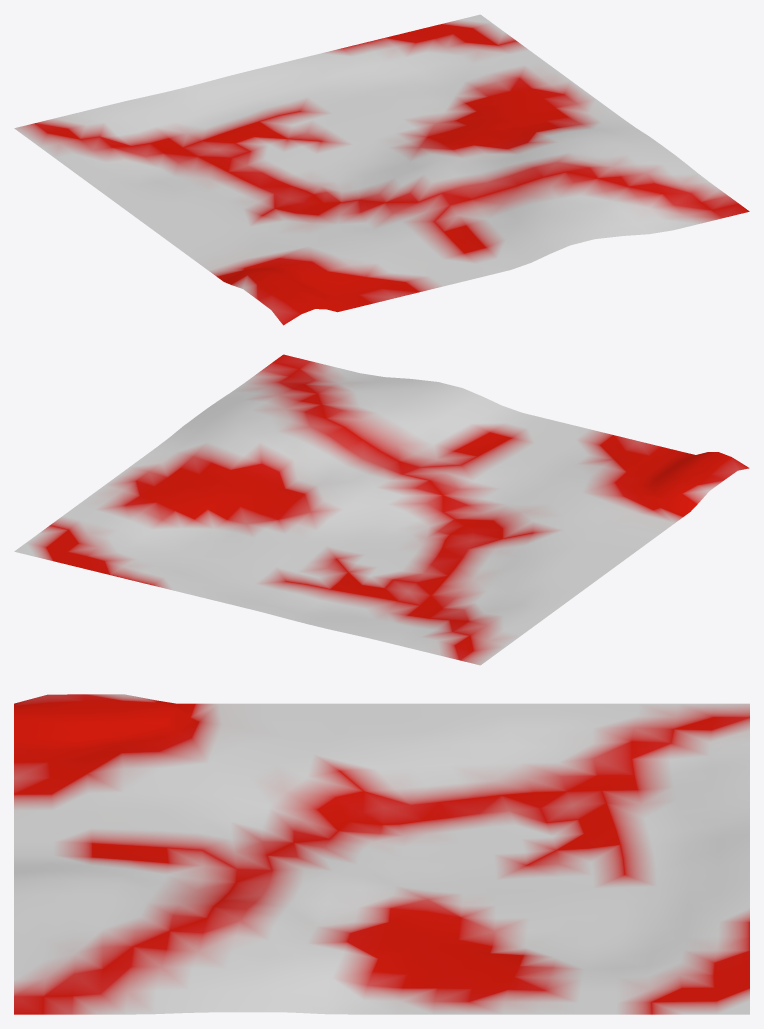
Rendered from landscape.fbx.
3 renders of one model, top to bottom at view 1: azimuth 30°, elevation 25°; view 2: azimuth 150°, elevation 25°; view 3: azimuth 270°, elevation 25°, orthographic. The views are drawn at different scales.
Parts seen in each view (by area): view 1: Retopo_Plane; view 2: Retopo_Plane; view 3: Retopo_Plane.
Boxes of the visible parts, x1=… form: Retopo_Plane: x1=14, y1=14, x2=749, y2=325; Retopo_Plane: x1=14, y1=354, x2=749, y2=665; Retopo_Plane: x1=14, y1=694, x2=749, y2=1014.
Size of the model in its own units: 200 by 10.12 by 200.
